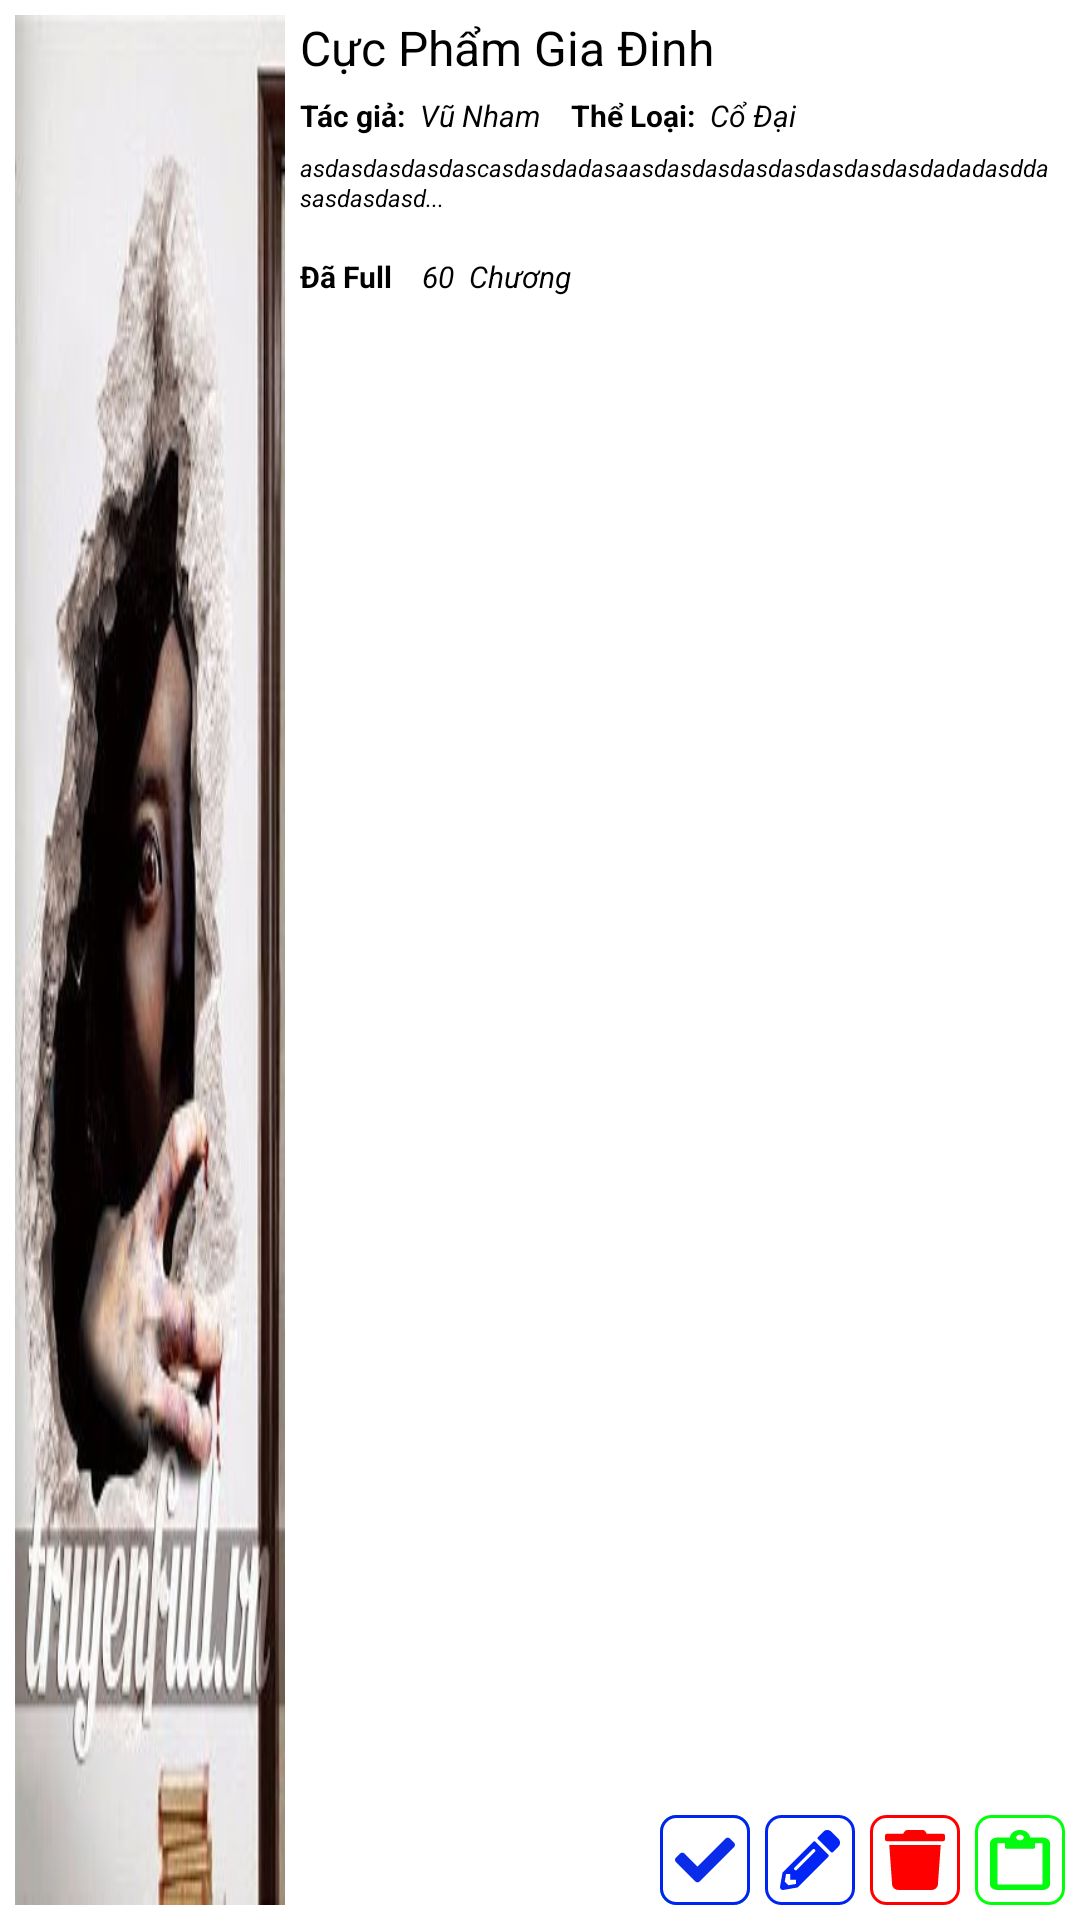

Where to tap for icons on this 1080w x 1920h app screen, as point (x, y):
clipboard: point (1020, 1860)
iconupdatetruyen: point (810, 1860)
trash: point (915, 1860)
